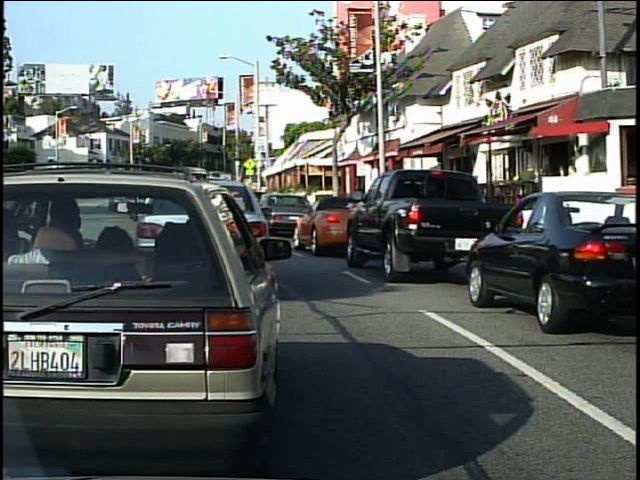person: (551, 152, 577, 223), (516, 155, 542, 225)
